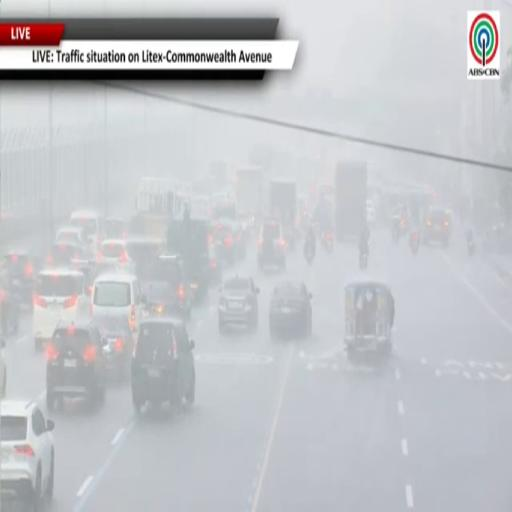car: (131, 317, 195, 412), (0, 400, 54, 510), (47, 319, 106, 410), (33, 268, 89, 351), (141, 254, 195, 318), (90, 274, 145, 331), (93, 315, 133, 381), (270, 281, 312, 338), (218, 276, 259, 333), (2, 250, 38, 307), (125, 237, 163, 280), (69, 211, 104, 254), (144, 281, 184, 318), (258, 218, 286, 270), (0, 271, 22, 335), (97, 239, 135, 273), (422, 207, 452, 246), (212, 220, 238, 264), (47, 242, 91, 266), (55, 226, 89, 246), (209, 239, 222, 285), (231, 221, 246, 260), (104, 218, 128, 238), (0, 339, 7, 398), (366, 200, 376, 225)
motorcycle: (409, 230, 420, 255), (322, 231, 333, 252), (304, 244, 314, 264), (467, 232, 475, 255), (392, 223, 400, 245), (360, 250, 368, 269)
truck: (167, 214, 209, 299), (129, 178, 176, 239), (334, 160, 367, 242), (269, 179, 297, 248), (236, 165, 263, 225), (209, 159, 227, 189)
